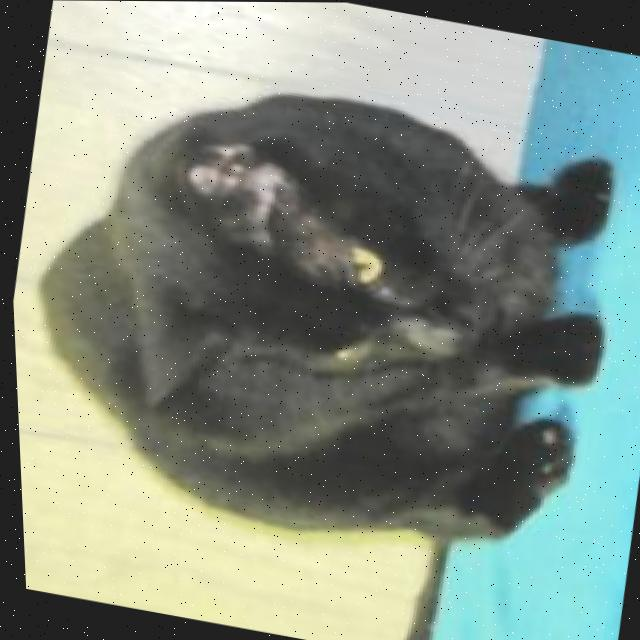Bombay: (1, 42, 640, 585)
